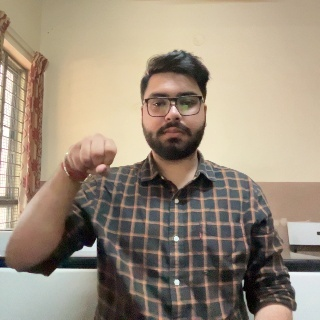Face: (143, 67, 206, 161)
Yes: (66, 129, 118, 195)
